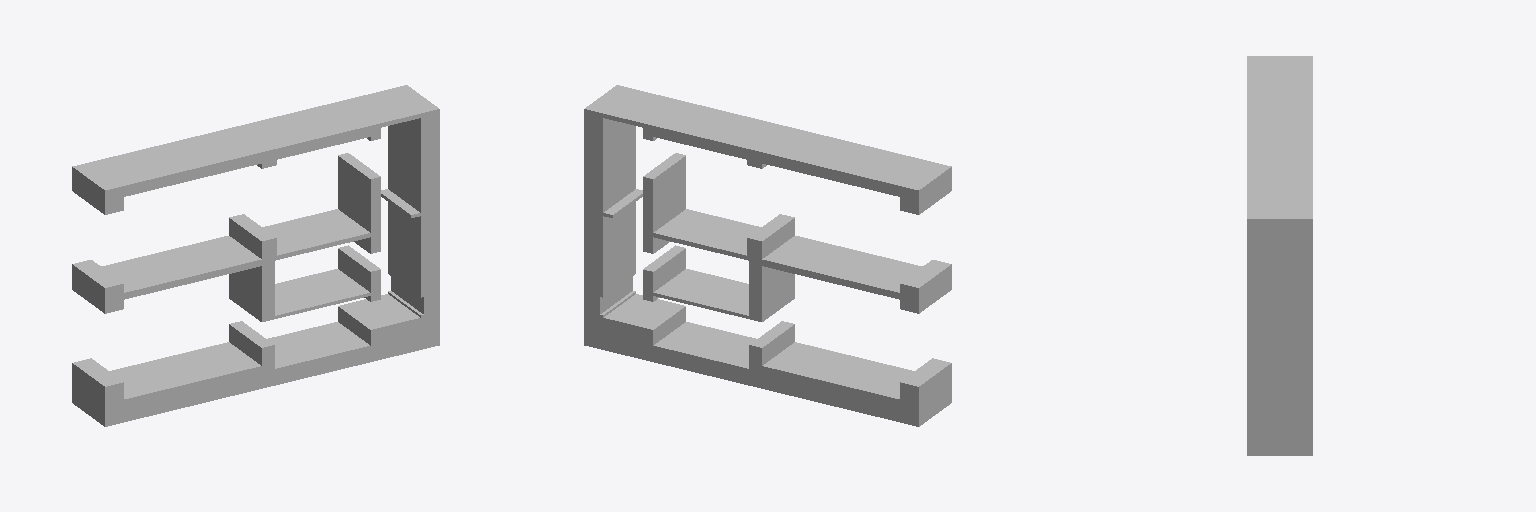
Rendered from spektrum_galerie.obj.
3 renders of one model, left to right at view 1: azimuth 30°, elevation 25°; view 2: azimuth 150°, elevation 25°; view 3: azimuth 270°, elevation 25°, orthographic.
Visible parts, largest first — view 1: obj_0; view 2: obj_0; view 3: obj_0.
Boxes of the visible parts, x1,y1,x2,y2 form: obj_0: [72, 85, 439, 426]; obj_0: [584, 85, 951, 426]; obj_0: [1247, 56, 1312, 455].
Size of the model in its own units: 589 by 397 by 100.